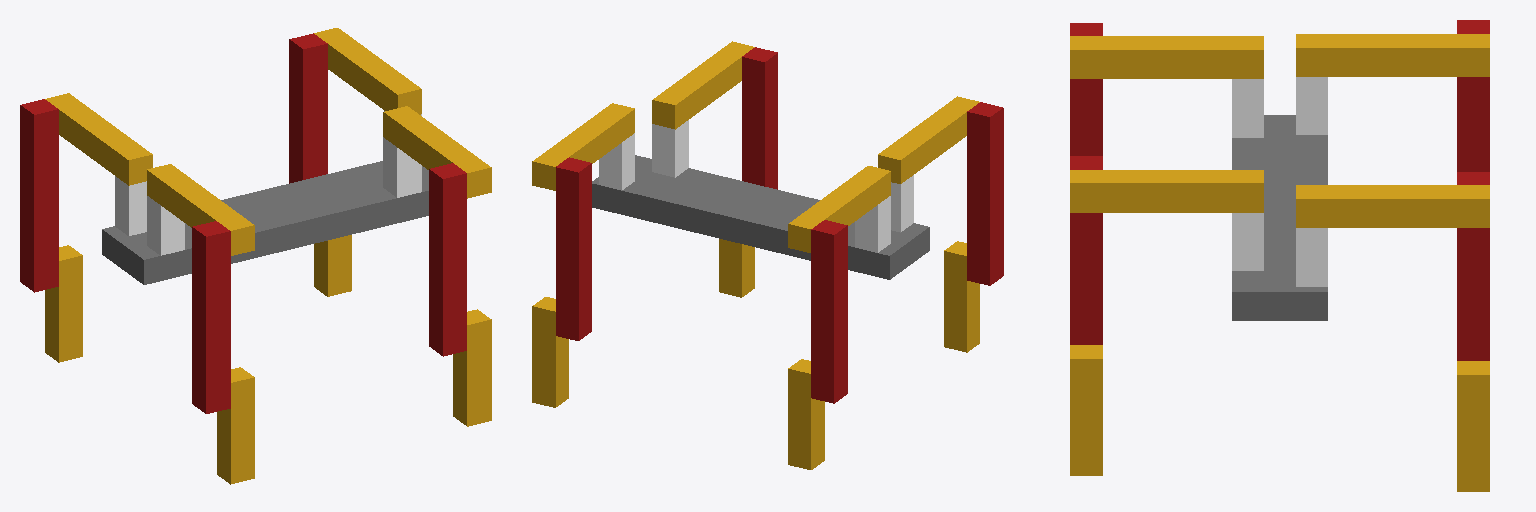
The robot description file, URDF, robot "v0":
<?xml version="1.0" encoding="utf-8"?>
<!-- =================================================================================== -->
<!-- |    This document was autogenerated by xacro from ../robots/v0variants/xacros/v0_4l_23.xacro | -->
<!-- |    EDITING THIS FILE BY HAND IS NOT RECOMMENDED                                 | -->
<!-- =================================================================================== -->
<robot name="v0">
  <material name="grey">
    <color rgba="0.5 0.5 0.5 1"/>
  </material>
  <material name="white">
    <color rgba="1 1 1 1"/>
  </material>
  <material name="yellow">
    <color rgba="0.91 0.7 0.14 1"/>
  </material>
  <material name="red">
    <color rgba="0.71 0.14 0.14 1"/>
  </material>
  <link name="body">
    <visual>
      <geometry>
        <box size="1.3 0.3 0.1"/>
      </geometry>
      <material name="grey"/>
      <origin rpy="0 0 0" xyz="0 0 0.7"/>
    </visual>
    <collision>
      <geometry>
        <box size="1.3 0.3 0.1"/>
      </geometry>
      <origin rpy="0 0 0" xyz="0 0 0.7"/>
    </collision>
    <inertial>
      <mass value="99.84"/>
      <inertia ixx="0.832" ixy="0.0" ixz="0.0" iyy="14.144" iyz="0.0" izz="14.8096"/>
    </inertial>
  </link>
  <link name="l1_segment_1">
    <visual>
      <geometry>
        <box size="0.1 0.1 0.2"/>
      </geometry>
      <material name="white"/>
      <origin rpy="0 0 0" xyz="0 0 0.1"/>
    </visual>
    <collision>
      <geometry>
        <box size="0.1 0.1 0.2"/>
      </geometry>
      <origin rpy="0 0 0" xyz="0 0 0.1"/>
    </collision>
    <inertial>
      <mass value="5.12"/>
      <inertia ixx="0.0213333333333" ixy="0.0" ixz="0.0" iyy="0.0213333333333" iyz="0.0" izz="0.00853333333333"/>
    </inertial>
  </link>
  <joint name="l1_base_to_joint_1" type="fixed">
    <parent link="body"/>
    <child link="l1_segment_1"/>
    <origin rpy="0 0 0" xyz="0.5618781549476205 0.1 0.75"/>
  </joint>
  <link name="l1_segment_2_HIP">
    <visual>
      <geometry>
        <box size="0.1 0.6 0.1"/>
      </geometry>
      <material name="yellow"/>
      <origin rpy="0 0 0" xyz="0 0.25 0"/>
    </visual>
    <collision>
      <geometry>
        <box size="0.1 0.6 0.1"/>
      </geometry>
      <origin rpy="0 0 0" xyz="0 0.25 0"/>
    </collision>
    <inertial>
      <mass value="15.36"/>
      <inertia ixx="0.4736" ixy="0.0" ixz="0.0" iyy="0.0256" iyz="0.0" izz="0.4736"/>
    </inertial>
  </link>
  <joint name="l1_joint_1_to_2" type="revolute">
    <parent link="l1_segment_1"/>
    <child link="l1_segment_2_HIP"/>
    <origin rpy="0 0 0" xyz="0 0 0.25"/>
    <axis xyz="0.0 0.0 1.0"/>
    <limit effort="2048" lower="-1.2" upper="1.2" velocity="20"/>
  </joint>
  <link name="l1_segment_3_THIGH">
    <visual>
      <geometry>
        <box size="0.1 0.1 0.7"/>
      </geometry>
      <material name="red"/>
      <origin rpy="0 0 0" xyz="0 0 -0.3"/>
    </visual>
    <collision>
      <geometry>
        <box size="0.1 0.1 0.7"/>
      </geometry>
      <origin rpy="0 0 0" xyz="0 0 -0.3"/>
    </collision>
    <inertial>
      <mass value="17.92"/>
      <inertia ixx="0.746666666667" ixy="0.0" ixz="0.0" iyy="0.746666666667" iyz="0.0" izz="0.0298666666667"/>
    </inertial>
  </link>
  <joint name="l1_joint_2_to_3" type="revolute">
    <parent link="l1_segment_2_HIP"/>
    <child link="l1_segment_3_THIGH"/>
    <origin rpy="0 0 0" xyz="-0.1 0.5 0"/>
    <axis xyz="1.0 0.0 0.0"/>
    <limit effort="2048" lower="-0.2" upper="0.75" velocity="20"/>
  </joint>
  <link name="l1_segment_4_FOOT">
    <visual>
      <geometry>
        <box size="0.1 0.1 0.4"/>
      </geometry>
      <material name="yellow"/>
      <origin rpy="0 0 0" xyz="0 0 -0.2"/>
    </visual>
    <collision>
      <geometry>
        <box size="0.1 0.1 0.4"/>
      </geometry>
      <origin rpy="0 0 0" xyz="0 0 -0.2"/>
    </collision>
    <inertial>
      <mass value="10.24"/>
      <inertia ixx="0.145066666667" ixy="0.0" ixz="0.0" iyy="0.145066666667" iyz="0.0" izz="0.0170666666667"/>
    </inertial>
  </link>
  <joint name="l1_joint_3_to_4_FOOT" type="revolute">
    <parent link="l1_segment_3_THIGH"/>
    <child link="l1_segment_4_FOOT"/>
    <origin rpy="0 0 0" xyz="0.1 0 -0.55"/>
    <axis xyz="1.0 0.0 0.0"/>
    <limit effort="2048" lower="-0.2" upper="0.5" velocity="20"/>
  </joint>
  <link name="r2_segment_1">
    <visual>
      <geometry>
        <box size="0.1 0.1 0.2"/>
      </geometry>
      <material name="white"/>
      <origin rpy="0 0 0" xyz="0 0 0.1"/>
    </visual>
    <collision>
      <geometry>
        <box size="0.1 0.1 0.2"/>
      </geometry>
      <origin rpy="0 0 0" xyz="0 0 0.1"/>
    </collision>
    <inertial>
      <mass value="5.12"/>
      <inertia ixx="0.0213333333333" ixy="0.0" ixz="0.0" iyy="0.0213333333333" iyz="0.0" izz="0.00853333333333"/>
    </inertial>
  </link>
  <joint name="r2_base_to_joint_1" type="fixed">
    <parent link="body"/>
    <child link="r2_segment_1"/>
    <origin rpy="0 0 0" xyz="-0.5318060767391526 -0.1 0.75"/>
  </joint>
  <link name="r2_segment_2_HIP">
    <visual>
      <geometry>
        <box size="0.1 0.6 0.1"/>
      </geometry>
      <material name="yellow"/>
      <origin rpy="0 0 0" xyz="0 -0.25 0"/>
    </visual>
    <collision>
      <geometry>
        <box size="0.1 0.6 0.1"/>
      </geometry>
      <origin rpy="0 0 0" xyz="0 -0.25 0"/>
    </collision>
    <inertial>
      <mass value="15.36"/>
      <inertia ixx="0.4736" ixy="0.0" ixz="0.0" iyy="0.0256" iyz="0.0" izz="0.4736"/>
    </inertial>
  </link>
  <joint name="r2_joint_1_to_2" type="revolute">
    <parent link="r2_segment_1"/>
    <child link="r2_segment_2_HIP"/>
    <origin rpy="0 0 0" xyz="0 0 0.25"/>
    <axis xyz="0.0 0.0 1.0"/>
    <limit effort="2048" lower="-1.2" upper="1.2" velocity="20"/>
  </joint>
  <link name="r2_segment_3_THIGH">
    <visual>
      <geometry>
        <box size="0.1 0.1 0.7"/>
      </geometry>
      <material name="red"/>
      <origin rpy="0 0 0" xyz="0 0 -0.3"/>
    </visual>
    <collision>
      <geometry>
        <box size="0.1 0.1 0.7"/>
      </geometry>
      <origin rpy="0 0 0" xyz="0 0 -0.3"/>
    </collision>
    <inertial>
      <mass value="17.92"/>
      <inertia ixx="0.746666666667" ixy="0.0" ixz="0.0" iyy="0.746666666667" iyz="0.0" izz="0.0298666666667"/>
    </inertial>
  </link>
  <joint name="r2_joint_2_to_3" type="revolute">
    <parent link="r2_segment_2_HIP"/>
    <child link="r2_segment_3_THIGH"/>
    <origin rpy="0 0 0" xyz="-0.1 -0.5 0"/>
    <axis xyz="1.0 0.0 0.0"/>
    <limit effort="2048" lower="-0.75" upper="0.2" velocity="20"/>
  </joint>
  <link name="r2_segment_4_FOOT">
    <visual>
      <geometry>
        <box size="0.1 0.1 0.4"/>
      </geometry>
      <material name="yellow"/>
      <origin rpy="0 0 0" xyz="0 0 -0.2"/>
    </visual>
    <collision>
      <geometry>
        <box size="0.1 0.1 0.4"/>
      </geometry>
      <origin rpy="0 0 0" xyz="0 0 -0.2"/>
    </collision>
    <inertial>
      <mass value="10.24"/>
      <inertia ixx="0.145066666667" ixy="0.0" ixz="0.0" iyy="0.145066666667" iyz="0.0" izz="0.0170666666667"/>
    </inertial>
  </link>
  <joint name="r2_joint_3_to_4_FOOT" type="revolute">
    <parent link="r2_segment_3_THIGH"/>
    <child link="r2_segment_4_FOOT"/>
    <origin rpy="0 0 0" xyz="0.1 0 -0.55"/>
    <axis xyz="1.0 0.0 0.0"/>
    <limit effort="2048" lower="-0.5" upper="0.2" velocity="20"/>
  </joint>
  <link name="l3_segment_1">
    <visual>
      <geometry>
        <box size="0.1 0.1 0.2"/>
      </geometry>
      <material name="white"/>
      <origin rpy="0 0 0" xyz="0 0 0.1"/>
    </visual>
    <collision>
      <geometry>
        <box size="0.1 0.1 0.2"/>
      </geometry>
      <origin rpy="0 0 0" xyz="0 0 0.1"/>
    </collision>
    <inertial>
      <mass value="5.12"/>
      <inertia ixx="0.0213333333333" ixy="0.0" ixz="0.0" iyy="0.0213333333333" iyz="0.0" izz="0.00853333333333"/>
    </inertial>
  </link>
  <joint name="l3_base_to_joint_1" type="fixed">
    <parent link="body"/>
    <child link="l3_segment_1"/>
    <origin rpy="0 0 0" xyz="-0.5482687708174337 0.1 0.75"/>
  </joint>
  <link name="l3_segment_2_HIP">
    <visual>
      <geometry>
        <box size="0.1 0.6 0.1"/>
      </geometry>
      <material name="yellow"/>
      <origin rpy="0 0 0" xyz="0 0.25 0"/>
    </visual>
    <collision>
      <geometry>
        <box size="0.1 0.6 0.1"/>
      </geometry>
      <origin rpy="0 0 0" xyz="0 0.25 0"/>
    </collision>
    <inertial>
      <mass value="15.36"/>
      <inertia ixx="0.4736" ixy="0.0" ixz="0.0" iyy="0.0256" iyz="0.0" izz="0.4736"/>
    </inertial>
  </link>
  <joint name="l3_joint_1_to_2" type="revolute">
    <parent link="l3_segment_1"/>
    <child link="l3_segment_2_HIP"/>
    <origin rpy="0 0 0" xyz="0 0 0.25"/>
    <axis xyz="0.0 0.0 1.0"/>
    <limit effort="2048" lower="-1.2" upper="1.2" velocity="20"/>
  </joint>
  <link name="l3_segment_3_THIGH">
    <visual>
      <geometry>
        <box size="0.1 0.1 0.7"/>
      </geometry>
      <material name="red"/>
      <origin rpy="0 0 0" xyz="0 0 -0.3"/>
    </visual>
    <collision>
      <geometry>
        <box size="0.1 0.1 0.7"/>
      </geometry>
      <origin rpy="0 0 0" xyz="0 0 -0.3"/>
    </collision>
    <inertial>
      <mass value="17.92"/>
      <inertia ixx="0.746666666667" ixy="0.0" ixz="0.0" iyy="0.746666666667" iyz="0.0" izz="0.0298666666667"/>
    </inertial>
  </link>
  <joint name="l3_joint_2_to_3" type="revolute">
    <parent link="l3_segment_2_HIP"/>
    <child link="l3_segment_3_THIGH"/>
    <origin rpy="0 0 0" xyz="-0.1 0.5 0"/>
    <axis xyz="1.0 0.0 0.0"/>
    <limit effort="2048" lower="-0.2" upper="0.75" velocity="20"/>
  </joint>
  <link name="l3_segment_4_FOOT">
    <visual>
      <geometry>
        <box size="0.1 0.1 0.4"/>
      </geometry>
      <material name="yellow"/>
      <origin rpy="0 0 0" xyz="0 0 -0.2"/>
    </visual>
    <collision>
      <geometry>
        <box size="0.1 0.1 0.4"/>
      </geometry>
      <origin rpy="0 0 0" xyz="0 0 -0.2"/>
    </collision>
    <inertial>
      <mass value="10.24"/>
      <inertia ixx="0.145066666667" ixy="0.0" ixz="0.0" iyy="0.145066666667" iyz="0.0" izz="0.0170666666667"/>
    </inertial>
  </link>
  <joint name="l3_joint_3_to_4_FOOT" type="revolute">
    <parent link="l3_segment_3_THIGH"/>
    <child link="l3_segment_4_FOOT"/>
    <origin rpy="0 0 0" xyz="0.1 0 -0.55"/>
    <axis xyz="1.0 0.0 0.0"/>
    <limit effort="2048" lower="-0.2" upper="0.5" velocity="20"/>
  </joint>
  <link name="r4_segment_1">
    <visual>
      <geometry>
        <box size="0.1 0.1 0.2"/>
      </geometry>
      <material name="white"/>
      <origin rpy="0 0 0" xyz="0 0 0.1"/>
    </visual>
    <collision>
      <geometry>
        <box size="0.1 0.1 0.2"/>
      </geometry>
      <origin rpy="0 0 0" xyz="0 0 0.1"/>
    </collision>
    <inertial>
      <mass value="5.12"/>
      <inertia ixx="0.0213333333333" ixy="0.0" ixz="0.0" iyy="0.0213333333333" iyz="0.0" izz="0.00853333333333"/>
    </inertial>
  </link>
  <joint name="r4_base_to_joint_1" type="fixed">
    <parent link="body"/>
    <child link="r4_segment_1"/>
    <origin rpy="0 0 0" xyz="0.44560875919007914 -0.1 0.75"/>
  </joint>
  <link name="r4_segment_2_HIP">
    <visual>
      <geometry>
        <box size="0.1 0.6 0.1"/>
      </geometry>
      <material name="yellow"/>
      <origin rpy="0 0 0" xyz="0 -0.25 0"/>
    </visual>
    <collision>
      <geometry>
        <box size="0.1 0.6 0.1"/>
      </geometry>
      <origin rpy="0 0 0" xyz="0 -0.25 0"/>
    </collision>
    <inertial>
      <mass value="15.36"/>
      <inertia ixx="0.4736" ixy="0.0" ixz="0.0" iyy="0.0256" iyz="0.0" izz="0.4736"/>
    </inertial>
  </link>
  <joint name="r4_joint_1_to_2" type="revolute">
    <parent link="r4_segment_1"/>
    <child link="r4_segment_2_HIP"/>
    <origin rpy="0 0 0" xyz="0 0 0.25"/>
    <axis xyz="0.0 0.0 1.0"/>
    <limit effort="2048" lower="-1.2" upper="1.2" velocity="20"/>
  </joint>
  <link name="r4_segment_3_THIGH">
    <visual>
      <geometry>
        <box size="0.1 0.1 0.7"/>
      </geometry>
      <material name="red"/>
      <origin rpy="0 0 0" xyz="0 0 -0.3"/>
    </visual>
    <collision>
      <geometry>
        <box size="0.1 0.1 0.7"/>
      </geometry>
      <origin rpy="0 0 0" xyz="0 0 -0.3"/>
    </collision>
    <inertial>
      <mass value="17.92"/>
      <inertia ixx="0.746666666667" ixy="0.0" ixz="0.0" iyy="0.746666666667" iyz="0.0" izz="0.0298666666667"/>
    </inertial>
  </link>
  <joint name="r4_joint_2_to_3" type="revolute">
    <parent link="r4_segment_2_HIP"/>
    <child link="r4_segment_3_THIGH"/>
    <origin rpy="0 0 0" xyz="-0.1 -0.5 0"/>
    <axis xyz="1.0 0.0 0.0"/>
    <limit effort="2048" lower="-0.75" upper="0.2" velocity="20"/>
  </joint>
  <link name="r4_segment_4_FOOT">
    <visual>
      <geometry>
        <box size="0.1 0.1 0.4"/>
      </geometry>
      <material name="yellow"/>
      <origin rpy="0 0 0" xyz="0 0 -0.2"/>
    </visual>
    <collision>
      <geometry>
        <box size="0.1 0.1 0.4"/>
      </geometry>
      <origin rpy="0 0 0" xyz="0 0 -0.2"/>
    </collision>
    <inertial>
      <mass value="10.24"/>
      <inertia ixx="0.145066666667" ixy="0.0" ixz="0.0" iyy="0.145066666667" iyz="0.0" izz="0.0170666666667"/>
    </inertial>
  </link>
  <joint name="r4_joint_3_to_4_FOOT" type="revolute">
    <parent link="r4_segment_3_THIGH"/>
    <child link="r4_segment_4_FOOT"/>
    <origin rpy="0 0 0" xyz="0.1 0 -0.55"/>
    <axis xyz="1.0 0.0 0.0"/>
    <limit effort="2048" lower="-0.5" upper="0.2" velocity="20"/>
  </joint>
</robot>

--- What the picture shows (computed from the rendered views, not written in the file) ---
Views: 3 orthographic renders of the robot side by side, from view 1: azimuth 30°, elevation 25°; view 2: azimuth 150°, elevation 25°; view 3: azimuth 270°, elevation 25°.
Model v0 with 17 links and 16 joints (12 revolute, 4 fixed), rooted at body, posed every joint at zero.
Links seen in each view (by area): view 1: body, l3_segment_3_THIGH, r2_segment_3_THIGH, r4_segment_3_THIGH, l1_segment_3_THIGH, l3_segment_2_HIP, l1_segment_2_HIP, r4_segment_2_HIP, r2_segment_2_HIP, r4_segment_4_FOOT, l3_segment_4_FOOT, r2_segment_4_FOOT (+4 smaller); view 2: body, r2_segment_3_THIGH, l3_segment_3_THIGH, l1_segment_3_THIGH, r4_segment_3_THIGH, r4_segment_2_HIP, r2_segment_2_HIP, l1_segment_2_HIP, l3_segment_2_HIP, l1_segment_4_FOOT, l3_segment_4_FOOT, r2_segment_4_FOOT (+5 smaller); view 3: body, l1_segment_2_HIP, r2_segment_2_HIP, l3_segment_2_HIP, r4_segment_2_HIP, l1_segment_3_THIGH, r4_segment_3_THIGH, l1_segment_4_FOOT, r4_segment_4_FOOT, l3_segment_3_THIGH, r2_segment_3_THIGH, l1_segment_1 (+3 smaller).
Link boxes in pixels (x1,y1,x2,y2): body: [102, 161, 428, 284]; l3_segment_3_THIGH: [20, 99, 58, 292]; r2_segment_3_THIGH: [192, 221, 230, 413]; r4_segment_3_THIGH: [429, 163, 466, 356]; l1_segment_3_THIGH: [289, 33, 327, 183]; l3_segment_2_HIP: [45, 93, 152, 185]; l1_segment_2_HIP: [314, 28, 421, 114]; r4_segment_2_HIP: [383, 106, 491, 198]; r2_segment_2_HIP: [147, 164, 254, 255]; r4_segment_4_FOOT: [453, 309, 491, 426]; l3_segment_4_FOOT: [45, 245, 82, 362]; r2_segment_4_FOOT: [217, 367, 254, 484]; body: [592, 155, 929, 279]; r2_segment_3_THIGH: [967, 102, 1003, 285]; l3_segment_3_THIGH: [811, 220, 847, 403]; l1_segment_3_THIGH: [556, 157, 591, 340]; r4_segment_3_THIGH: [742, 47, 777, 189]; r4_segment_2_HIP: [652, 41, 754, 129]; r2_segment_2_HIP: [878, 96, 979, 183]; l1_segment_2_HIP: [532, 103, 634, 190]; l3_segment_2_HIP: [788, 166, 890, 252]; l1_segment_4_FOOT: [532, 297, 568, 407]; l3_segment_4_FOOT: [788, 359, 824, 469]; r2_segment_4_FOOT: [944, 241, 979, 352]; body: [1232, 115, 1327, 320]; l1_segment_2_HIP: [1296, 185, 1489, 227]; r2_segment_2_HIP: [1070, 36, 1263, 78]; l3_segment_2_HIP: [1296, 34, 1489, 76]; r4_segment_2_HIP: [1070, 170, 1263, 212]; l1_segment_3_THIGH: [1457, 172, 1489, 360]; r4_segment_3_THIGH: [1070, 156, 1102, 344]; l1_segment_4_FOOT: [1457, 361, 1489, 491]; r4_segment_4_FOOT: [1070, 345, 1102, 475]; l3_segment_3_THIGH: [1457, 20, 1489, 171]; r2_segment_3_THIGH: [1070, 23, 1102, 155]; l1_segment_1: [1296, 228, 1327, 286].
Size in the robot's own frame: 1.35 by 1.3 by 1 metres.
Geometry: primitives only (box / cylinder / sphere), no mesh files.